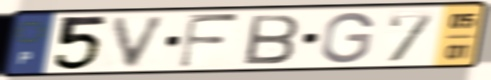5: (51, 13, 113, 72)
7: (386, 10, 438, 64)
B: (242, 12, 303, 66)
F: (175, 12, 243, 70)
G: (317, 11, 377, 65)
V: (109, 14, 173, 70)
